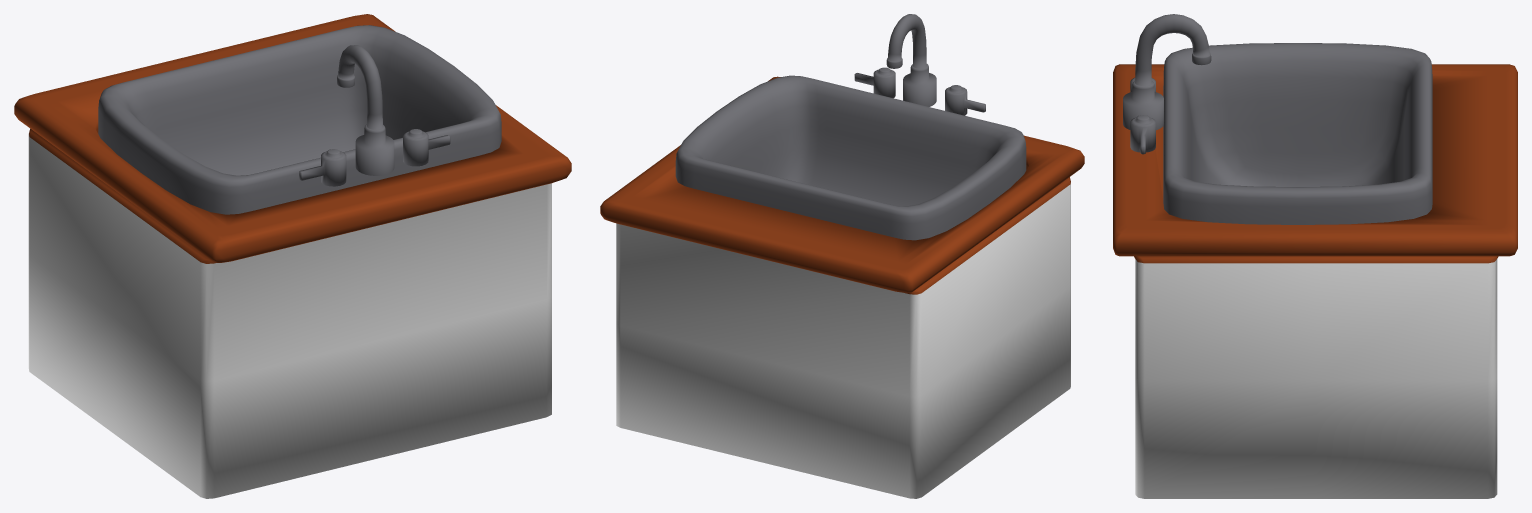
The model's file is resizedsinklbench.glb.
3 views of the same model, side by side, from view 1: azimuth 30°, elevation 25°; view 2: azimuth 150°, elevation 25°; view 3: azimuth 270°, elevation 25° (orthographic). The views are drawn at different scales.
Parts seen in each view (by area): view 1: Cube.004; view 2: Cube.004; view 3: Cube.004.
Boxes of the visible parts, x1=… form: Cube.004: x1=14, y1=14, x2=571, y2=498; Cube.004: x1=600, y1=14, x2=1084, y2=498; Cube.004: x1=1113, y1=14, x2=1517, y2=498.
Size of the model in its own units: 3.07 by 3.24 by 2.99.
